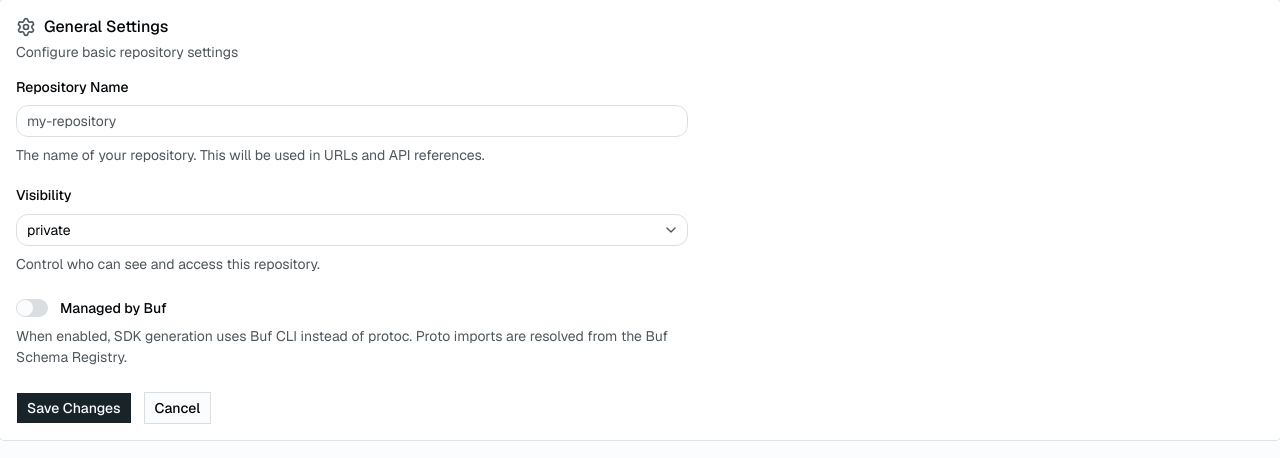
Test: RepositorySettingsForm › Visibility Options › renders all visibility options in select
Click the dropdown named "visibility" at (49, 230), box [16,214,688,246]
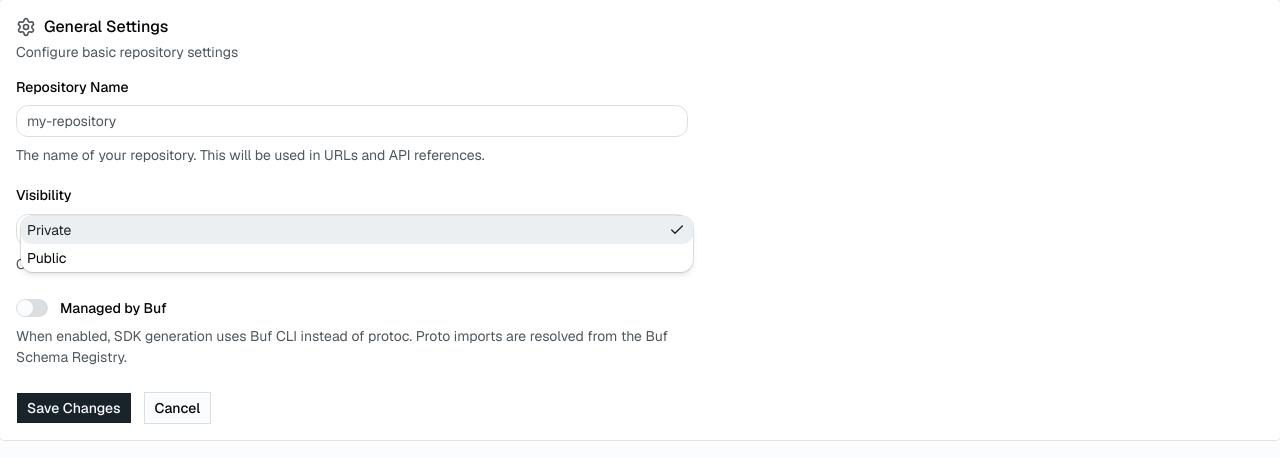
Expected: the option "Private" is shown, [21,216,693,244]
Expected: the option "Public" is shown, [27,248,66,266]
